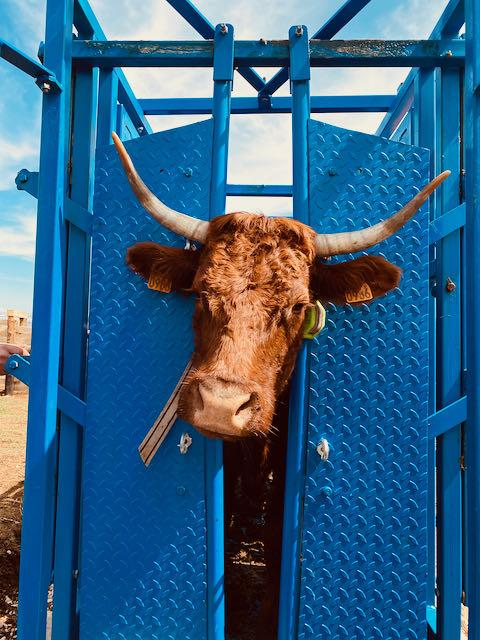muzzles: (178, 369, 267, 448)
